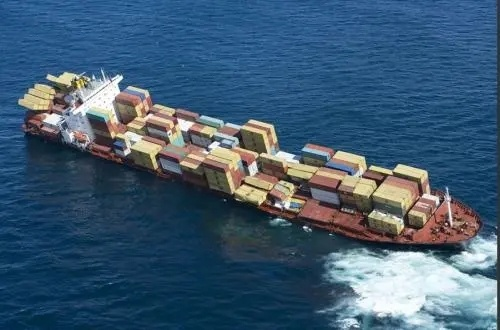Cargoship: (15, 68, 486, 250)
